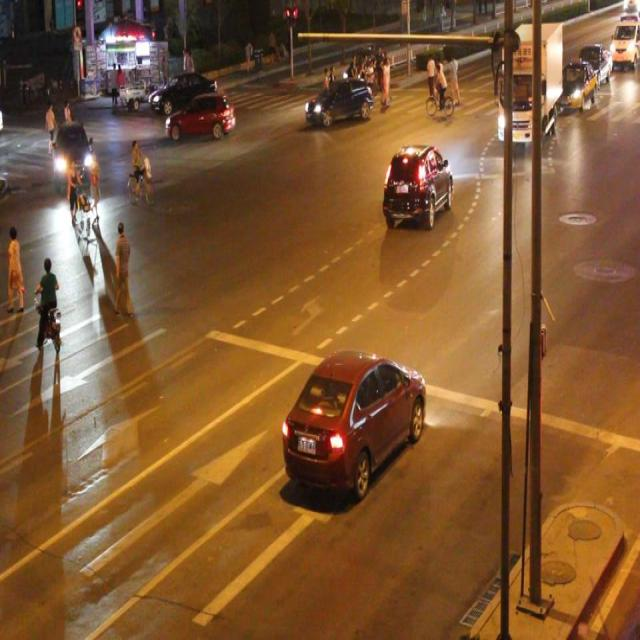bus: (497, 22, 561, 145)
car: (284, 350, 426, 489), (382, 139, 452, 231), (164, 94, 234, 142), (303, 78, 372, 126), (50, 121, 95, 186), (148, 71, 216, 107)
